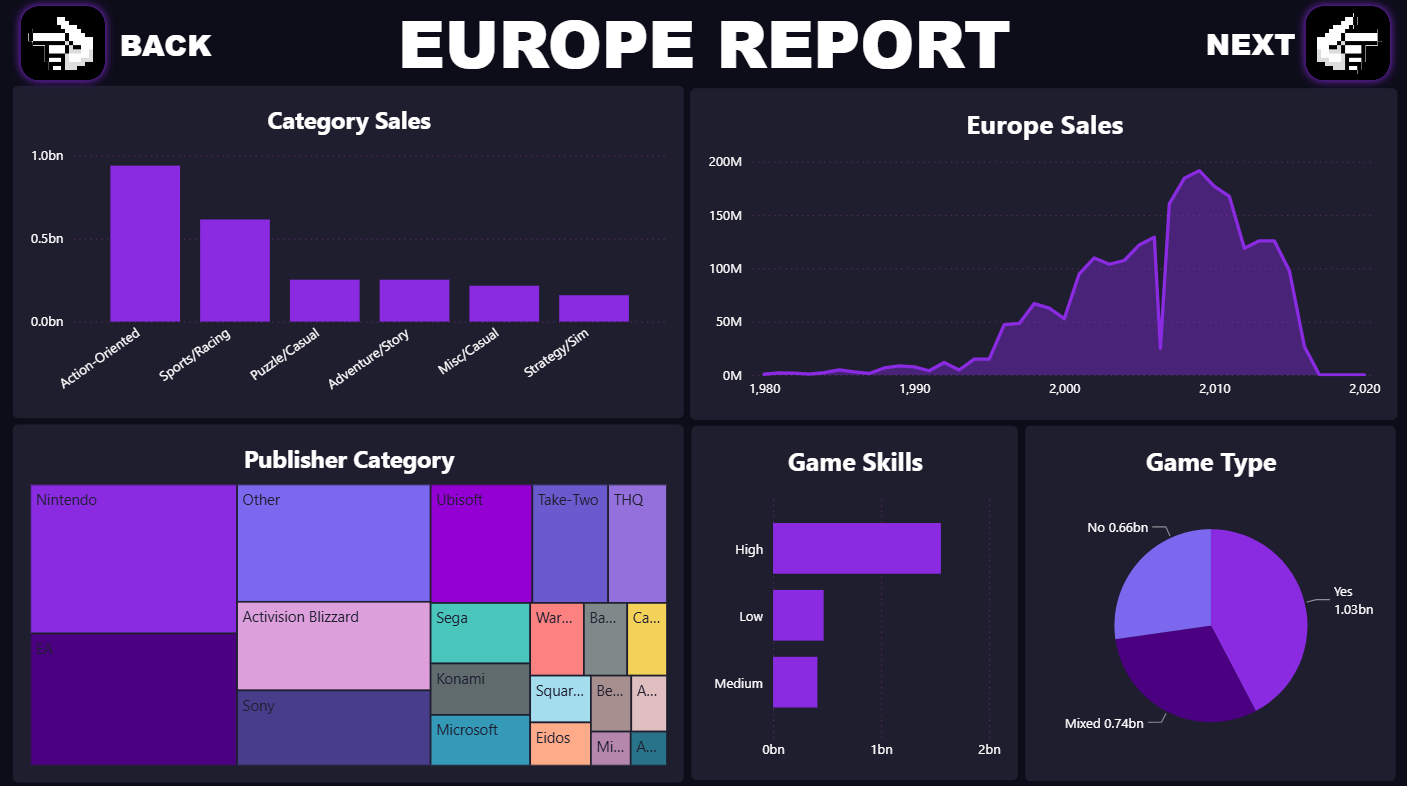

This screenshot's page, from the dashboard's own definition file:
{"tool":"powerbi","page":{"name":"EUROPE REPORT","canvas":[1280,720],"ordinal":6},"visuals":[{"type":"textbox","title":"EUROPE REPORT ","box":[171.3,0,937.4,74.7],"z":0},{"type":"areaChart","title":"Europe Sales","fields":{"Category":["Fact_Sales.Year"],"Y":["Sum(Fact_Sales.EU_Sales_Mill)"]},"box":[627.5,82.4,644.6,300.5],"z":1000},{"type":"barChart","title":"Game Skills","fields":{"Category":["Dim_category.Skills"],"Y":["Sum(Fact_Sales.EU_Sales_Mill)"]},"box":[628.4,388.9,295.9,321.9],"z":2000},{"type":"pieChart","title":"Game Type","fields":{"Category":["Dim_category.Multiplayer"],"Y":["Sum(Fact_Sales.EU_Sales_Mill)"]},"box":[930.7,388.9,341.4,321.8],"z":3000},{"type":"columnChart","title":"Category Sales","fields":{"Category":["Dim_category.Category"],"Y":["Sum(Fact_Sales.EU_Sales_Mill)"]},"box":[12.2,80.8,608.6,301.4],"z":4000},{"type":"treemap","title":"Publisher Category","fields":{"Group":["Dim_Company.Publisher_Category"],"Values":["Sum(Fact_Sales.EU_Sales_Mill)"]},"box":[12.2,387.4,608.6,324.9],"z":5000},{"type":"actionButton","box":[11.6,0,93,83.9],"z":6000},{"type":"textbox","title":"BACK","box":[105.9,23.5,91.5,39.7],"z":7000},{"type":"textbox","title":"NEXT","box":[1080.8,22.9,109.8,39.7],"z":8000},{"type":"actionButton","box":[1177.5,0,93,83.9],"z":9000}]}

Visuals, with their boxes in screenshot pixels (x1, y1, x2, y2), scaled from the page's 1280x720 canvas onto the 1407x786 screenshot:
"EUROPE REPORT " textbox: detection(188, 0, 1219, 82)
"Europe Sales" areaChart: detection(690, 90, 1398, 418)
"Game Skills" barChart: detection(691, 425, 1016, 776)
"Game Type" pieChart: detection(1023, 425, 1398, 776)
"Category Sales" columnChart: detection(13, 88, 682, 417)
"Publisher Category" treemap: detection(13, 423, 682, 778)
actionButton: detection(13, 0, 115, 92)
"BACK" textbox: detection(116, 26, 217, 69)
"NEXT" textbox: detection(1188, 25, 1309, 68)
actionButton: detection(1294, 0, 1397, 92)
